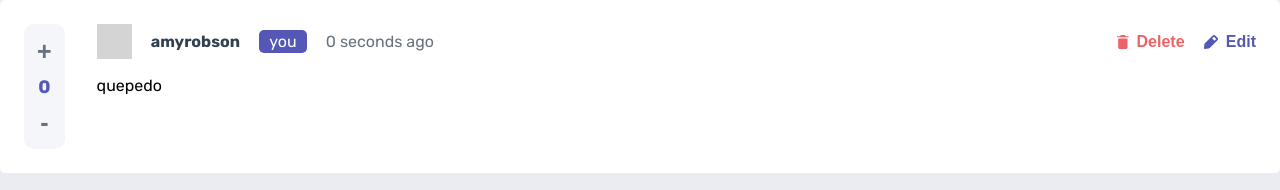
Comment component › the "+" button should add up the counter
Click the button "+": coordinates (44, 52) [32, 32, 57, 71]
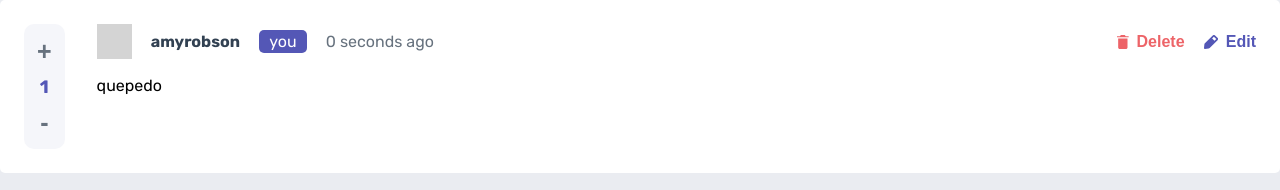
Now the text with test id "counter-text" reads "1", box [40, 76, 49, 98]
